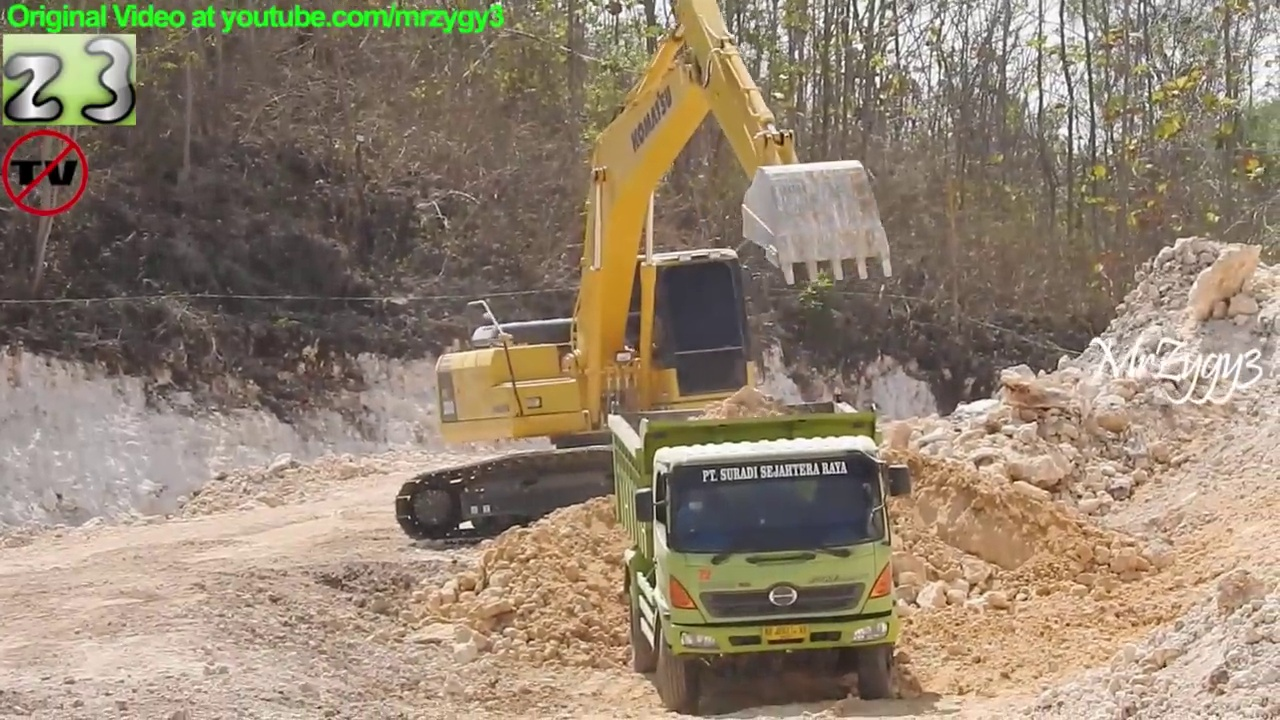excavator: (393, 1, 907, 545)
truck: (603, 388, 915, 714)
